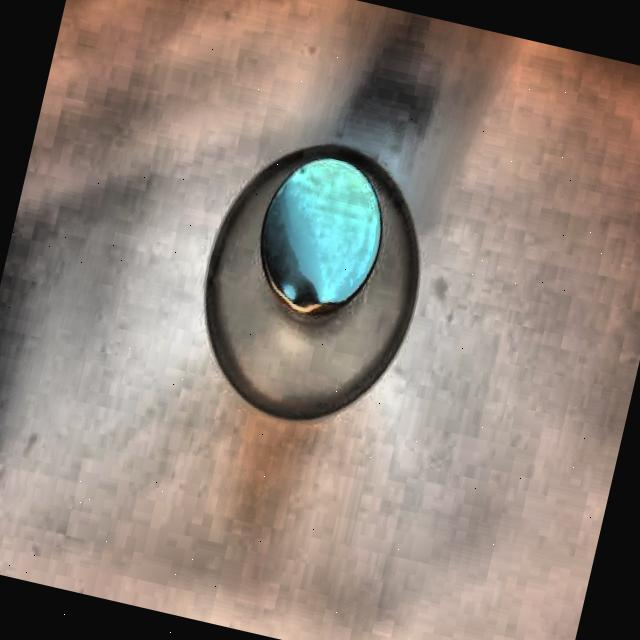glass: (170, 116, 452, 453)
